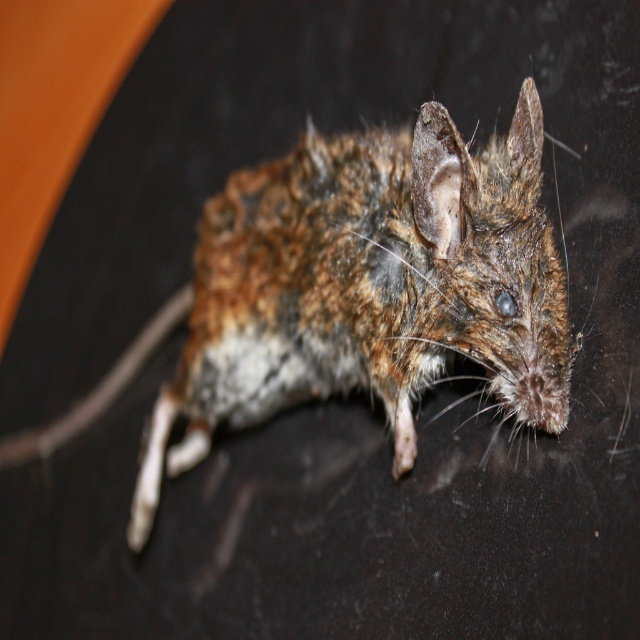Mouse: (0, 55, 606, 554)
